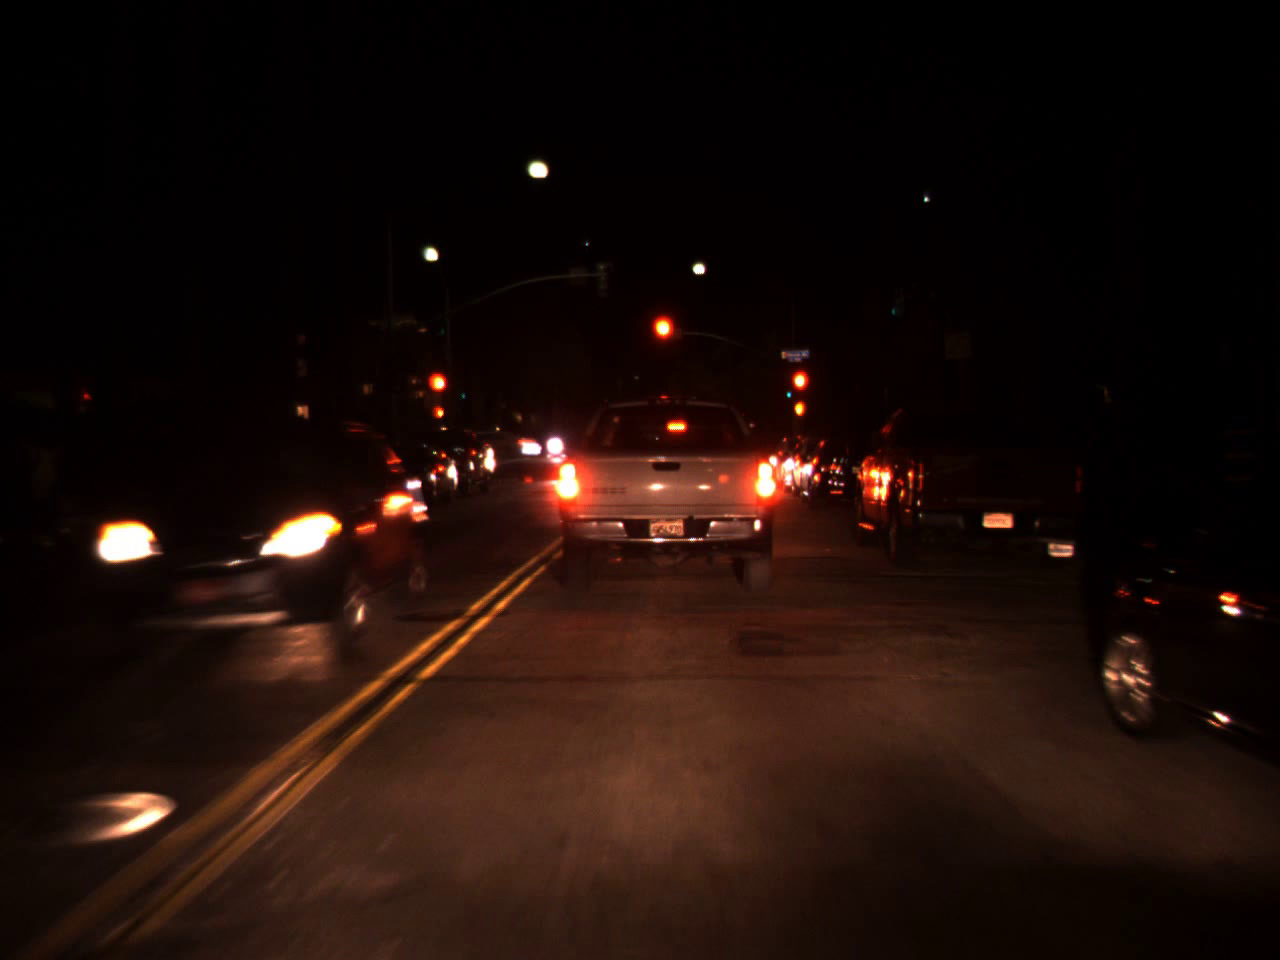stop: (649, 311, 677, 367), (426, 369, 450, 417), (789, 367, 810, 412)
